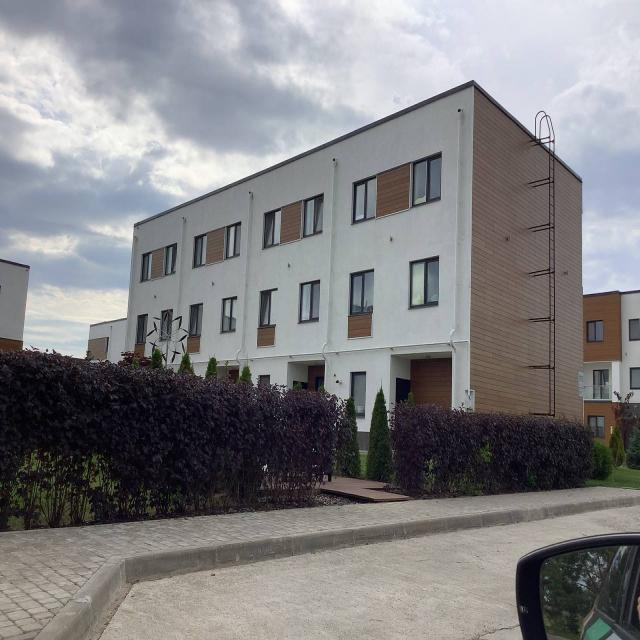Building: (125, 79, 584, 448)
